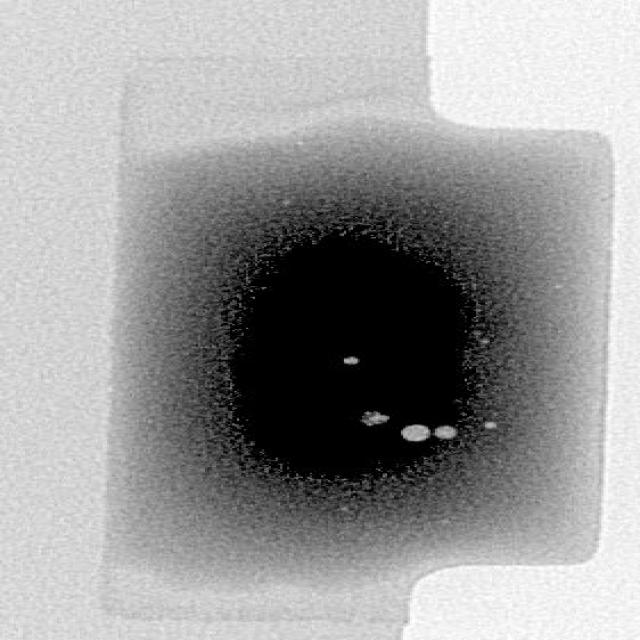component: (105, 8, 610, 625)
void: (401, 425, 433, 443), (360, 412, 389, 427), (433, 427, 458, 440), (342, 356, 360, 365)
